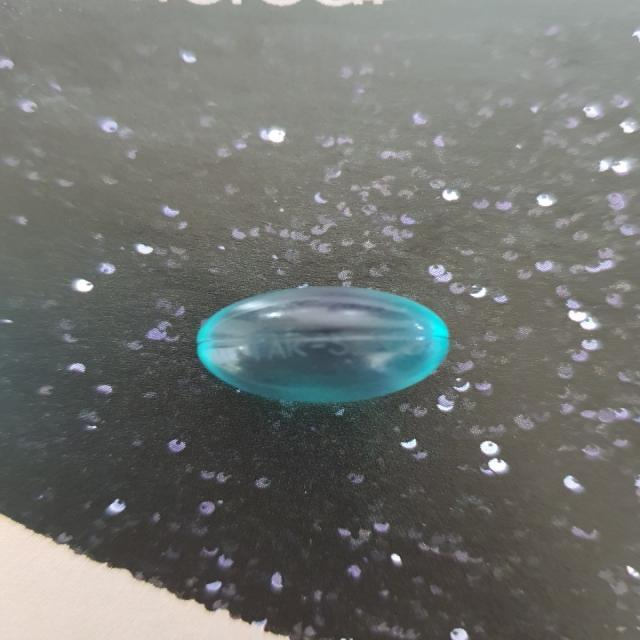pill: (193, 268, 452, 430)
